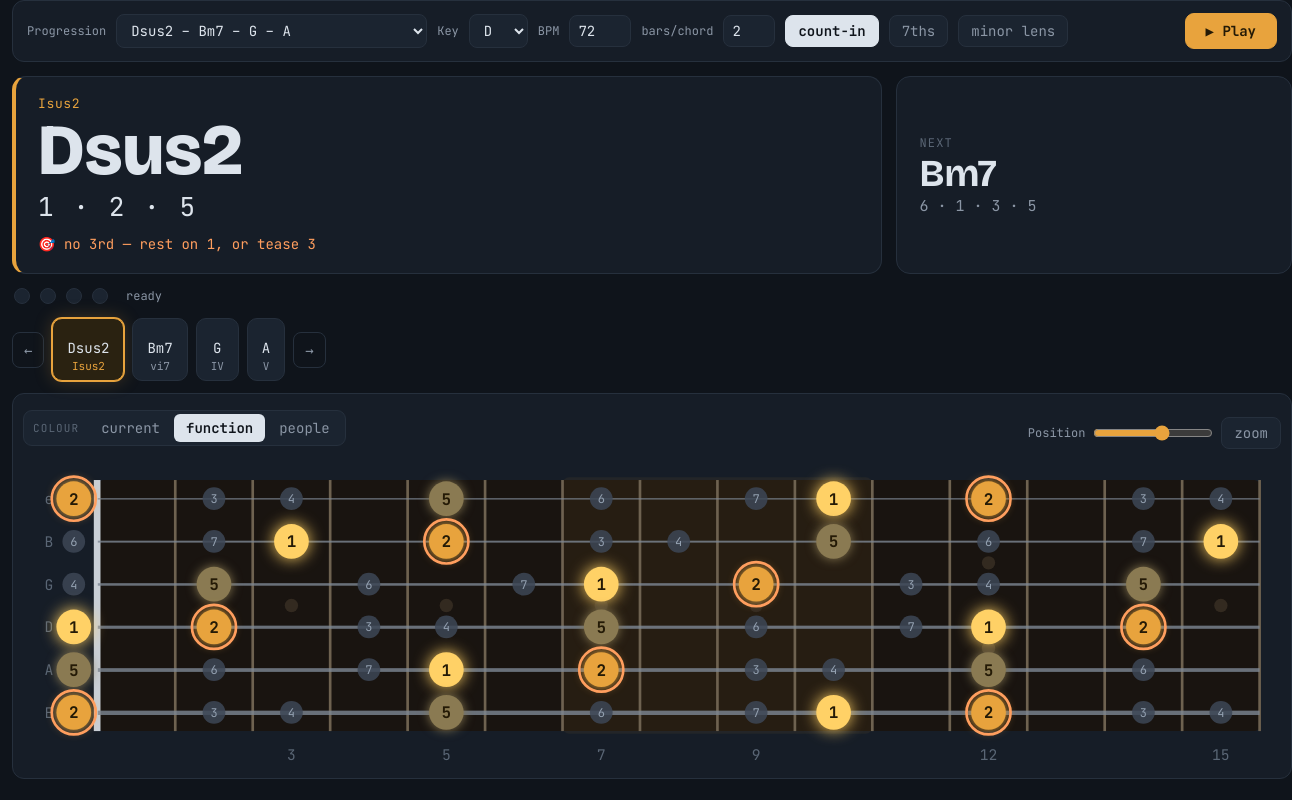
Test: <PracticeSession /> › stepping advances the now-playing chord
Click the button named "Next chord".
click(310, 350)  # box left=293, top=332, right=326, bottom=368
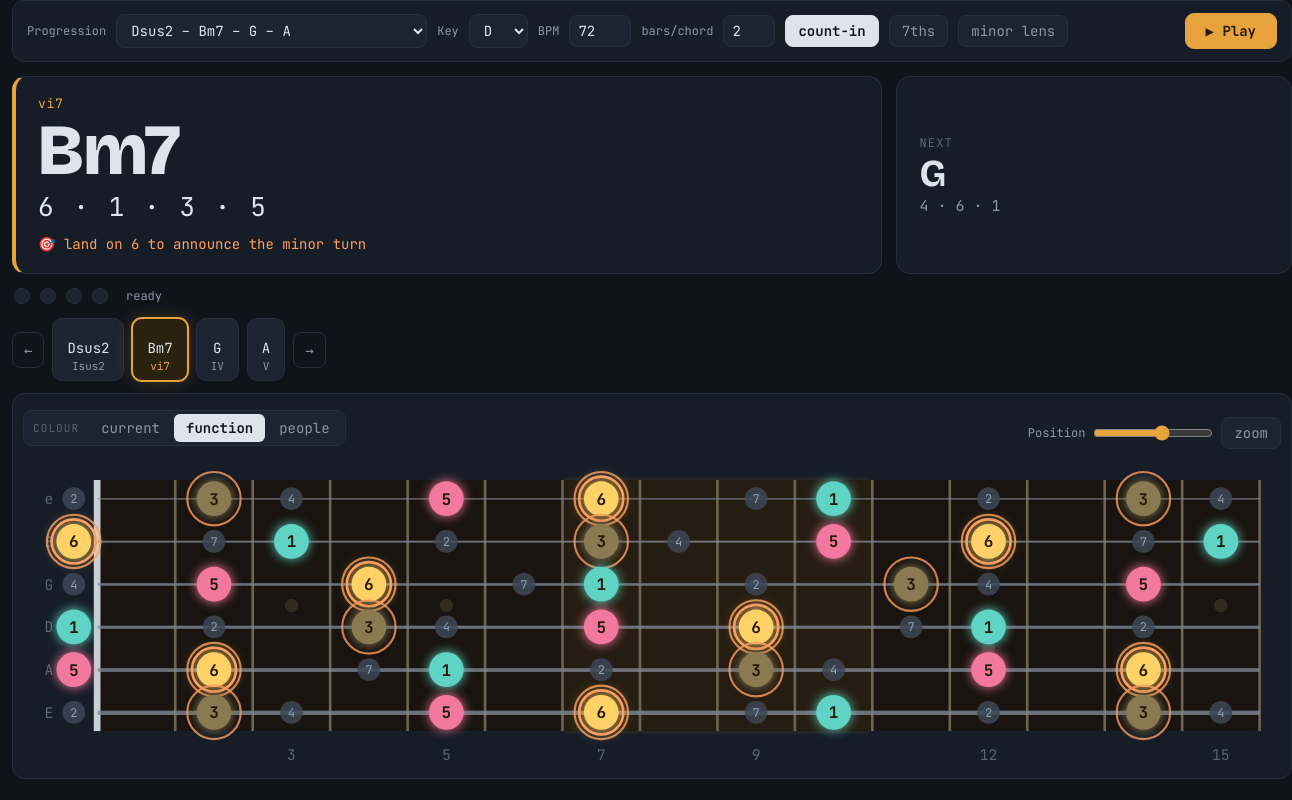
Check: the text "Bm7" is shown, box left=38, top=107, right=181, bottom=193
